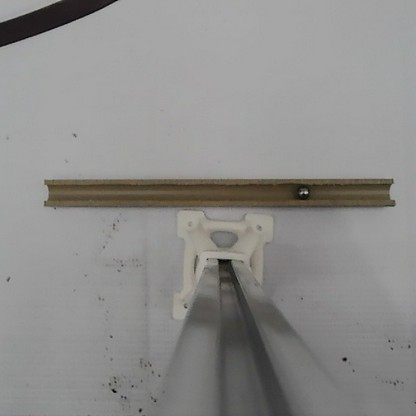ironball: (294, 183, 309, 200)
